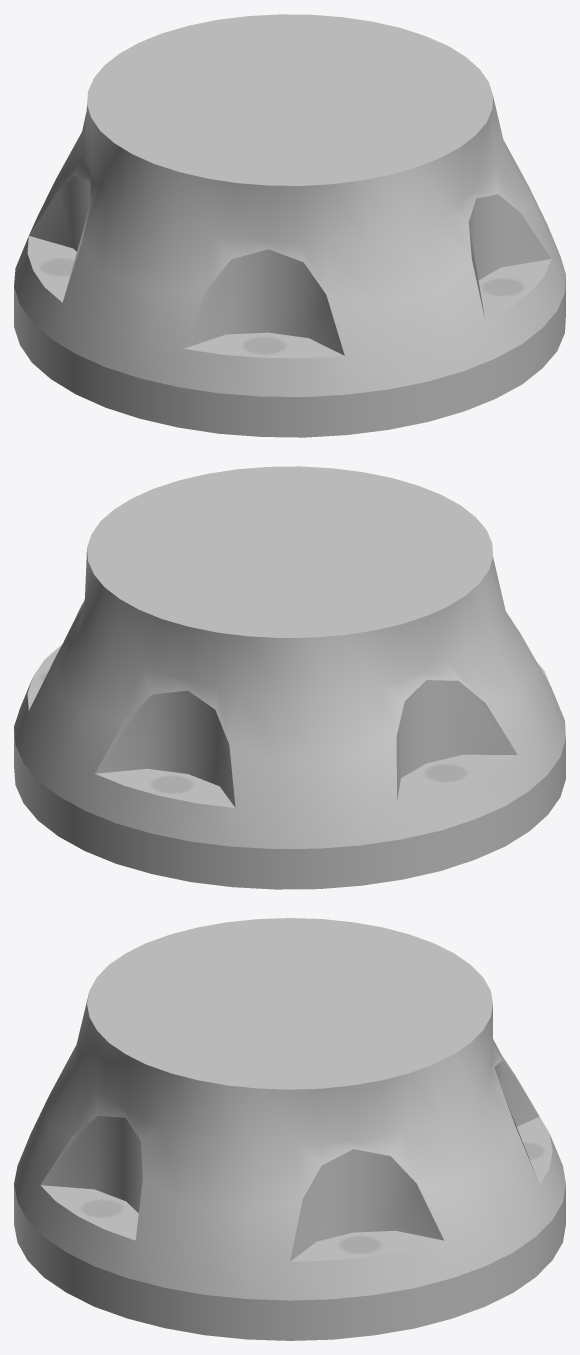
3 renders of one model, top to bottom at view 1: azimuth 30°, elevation 25°; view 2: azimuth 150°, elevation 25°; view 3: azimuth 270°, elevation 25°, orthographic.
Parts seen in each view (by area): view 1: base; view 2: base; view 3: base.
Boxes of the visible parts, x1=… form: base: x1=14, y1=14, x2=565, y2=437; base: x1=14, y1=466, x2=565, y2=889; base: x1=14, y1=918, x2=565, y2=1340.
Bounding box in the file's own units: 24.56 × 10.83 × 24.56.
